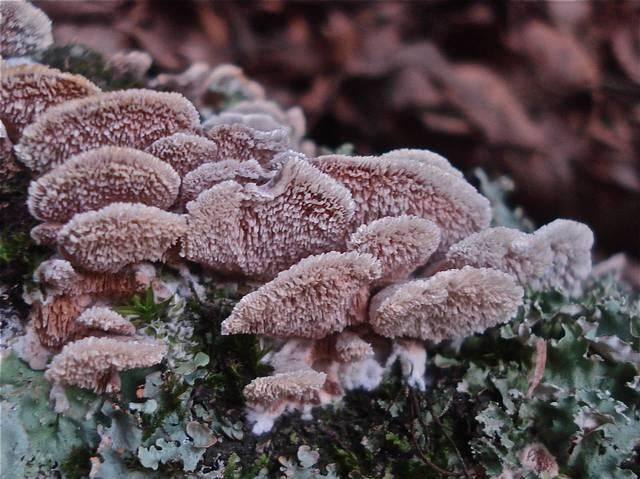Non-edible Mushroom: (0, 2, 595, 422)
